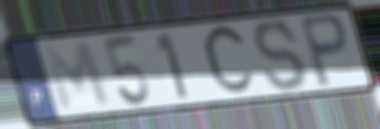1: (154, 30, 192, 102)
5: (101, 33, 151, 108)
C: (200, 20, 258, 101)
M: (40, 39, 115, 115)
P: (296, 11, 351, 89)
S: (252, 17, 310, 94)
